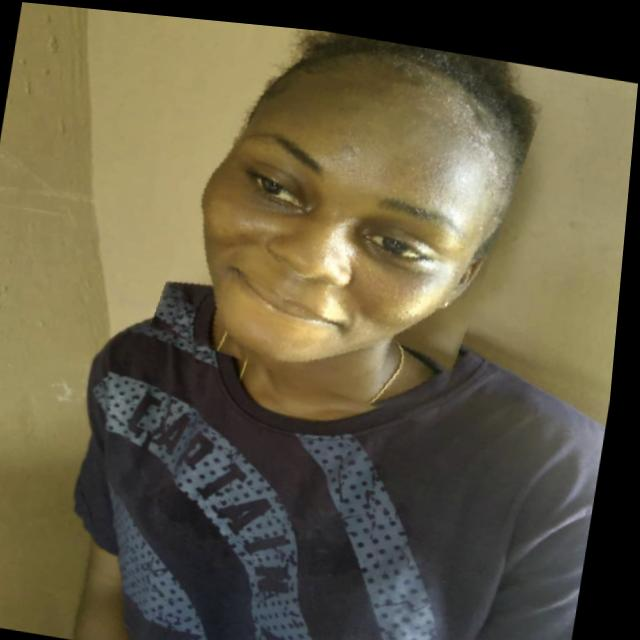happy: (161, 14, 536, 413)
